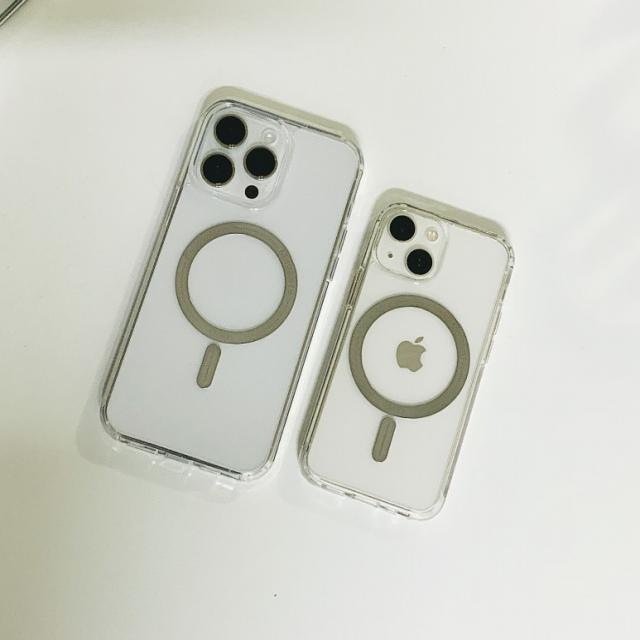phone: (101, 94, 363, 477), (300, 202, 515, 519)
